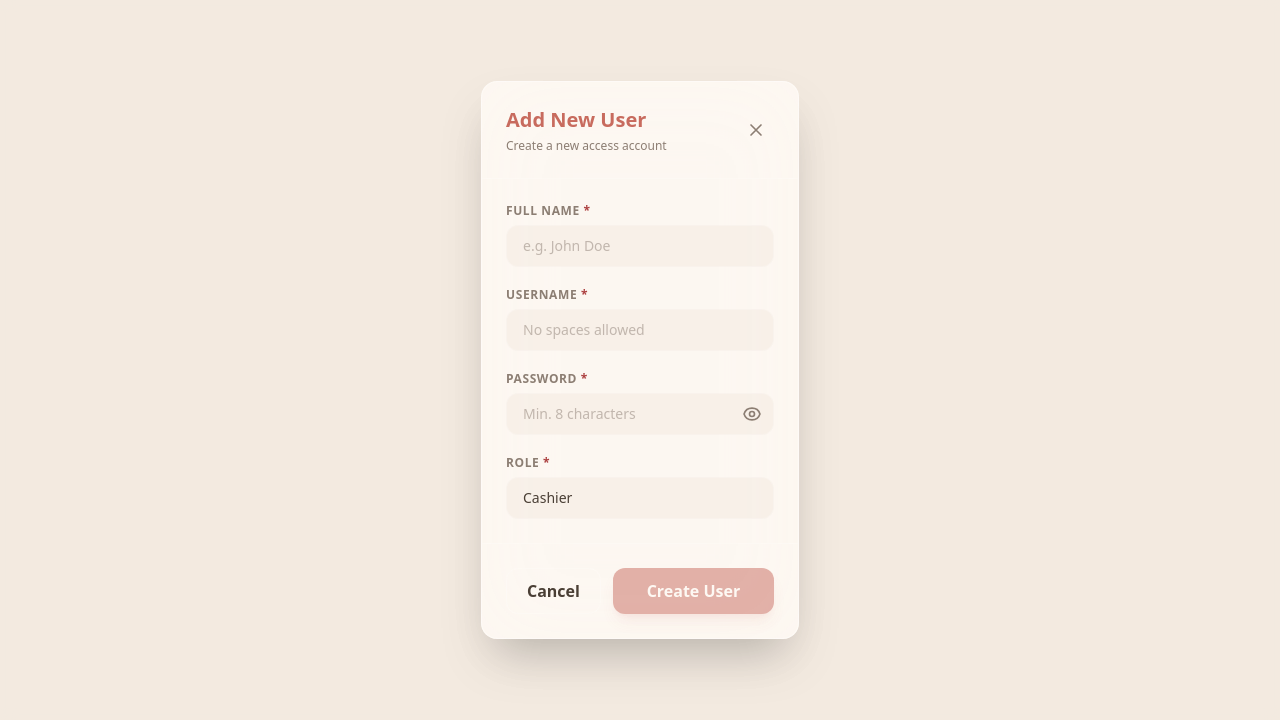
Scenario: UserFormModal.vue (Complex Form & Logic Testing) › [Validation] Tombol Submit disable jika field wajib kosong
Expected: the button "Create User" is disabled, left=613, top=568, right=774, bottom=614
Type "Budi" into the field with placeholder "e.g. John Doe" at (640, 246), box left=506, top=225, right=774, bottom=267
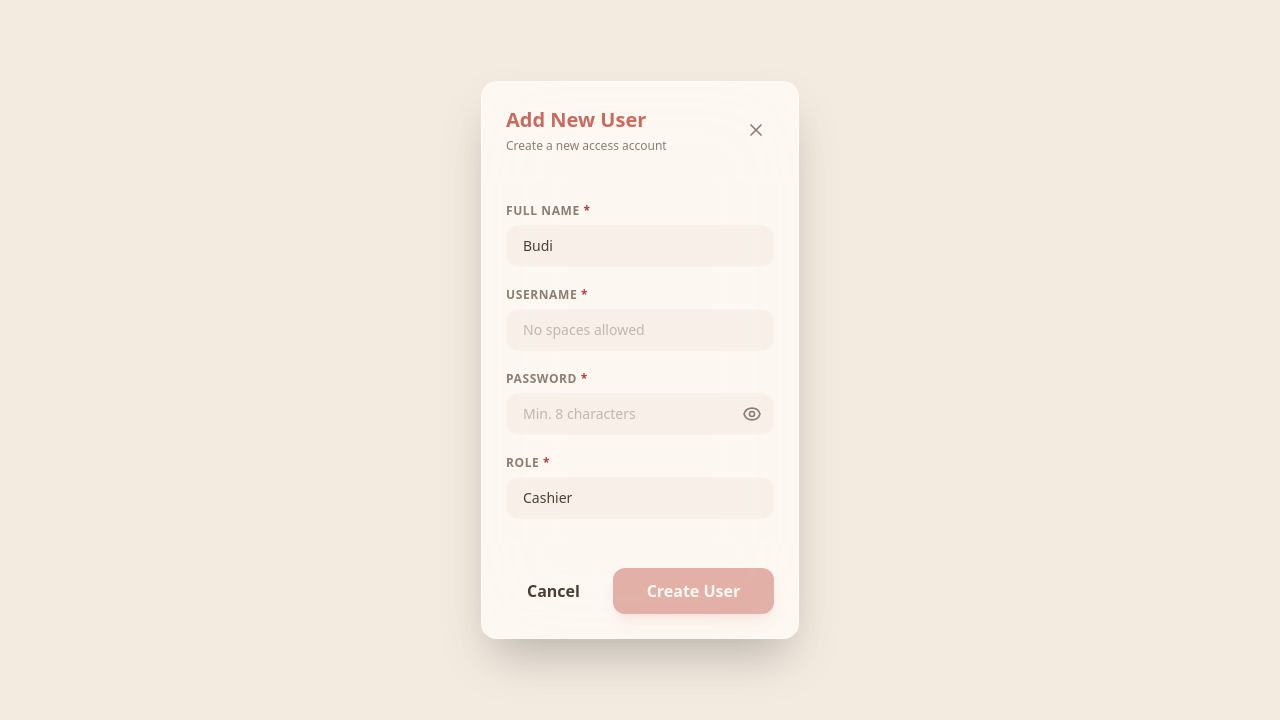
Expected: the button "Create User" is disabled, left=613, top=568, right=774, bottom=614
Type "budi" into the field with placeholder "No spaces allowed" at (640, 330), box left=506, top=309, right=774, bottom=351
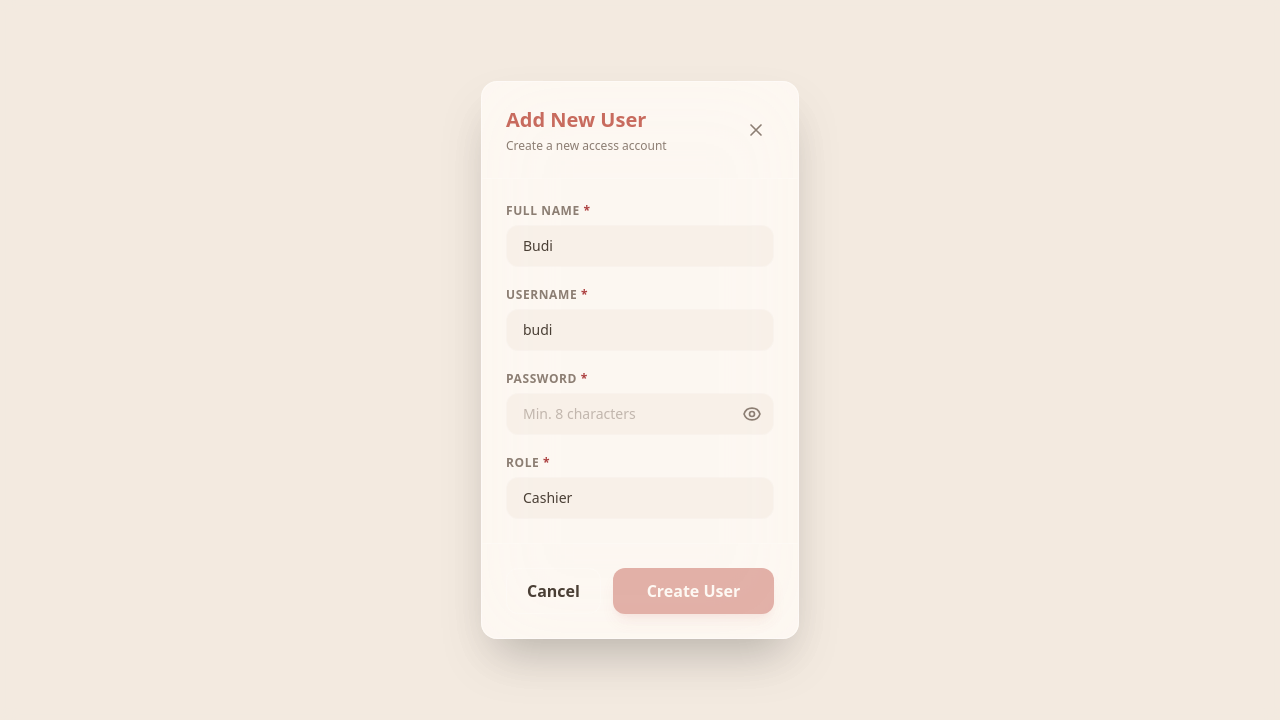
Type "password123" into the password field with placeholder "Min. 8 characters" at (640, 414), box left=506, top=393, right=774, bottom=435
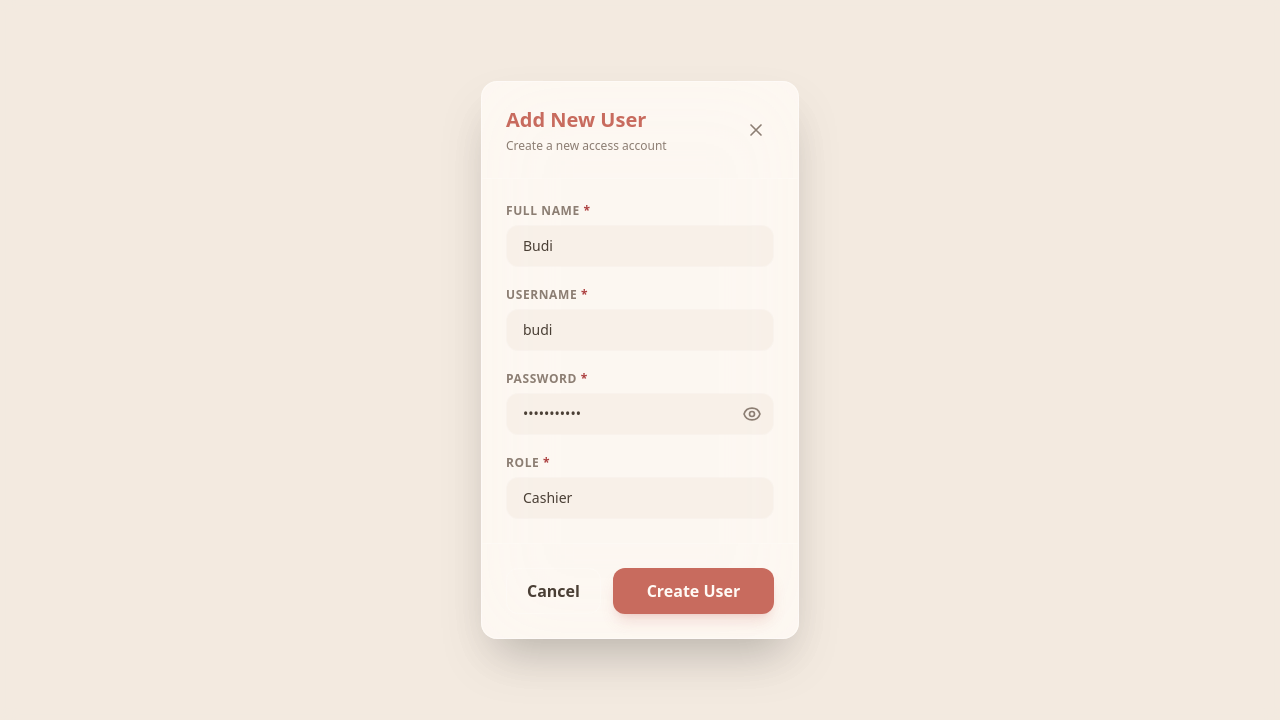
Result: the button "Create User" is enabled at left=613, top=568, right=774, bottom=614
